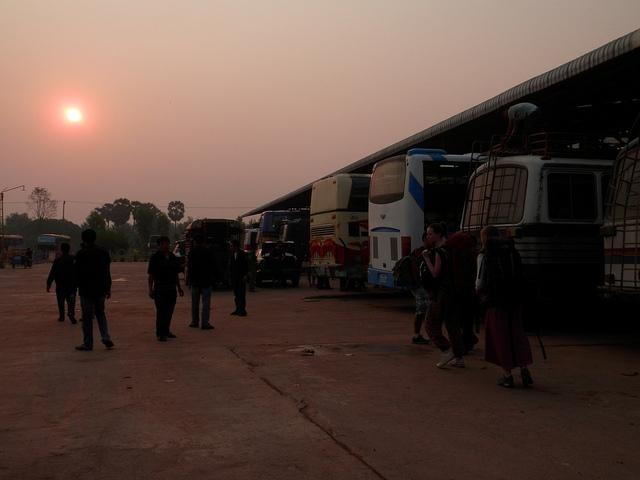bus: (457, 144, 614, 294), (368, 149, 482, 290), (596, 136, 640, 298), (310, 172, 372, 282), (236, 210, 306, 284), (36, 233, 70, 261)
